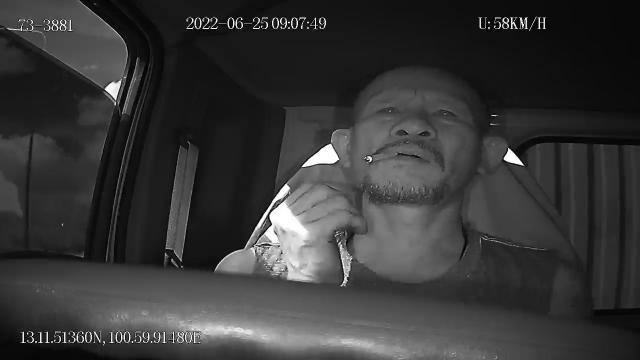SafeDriving: (424, 100, 464, 127), (368, 97, 406, 124)
Smoking: (364, 151, 398, 165)
